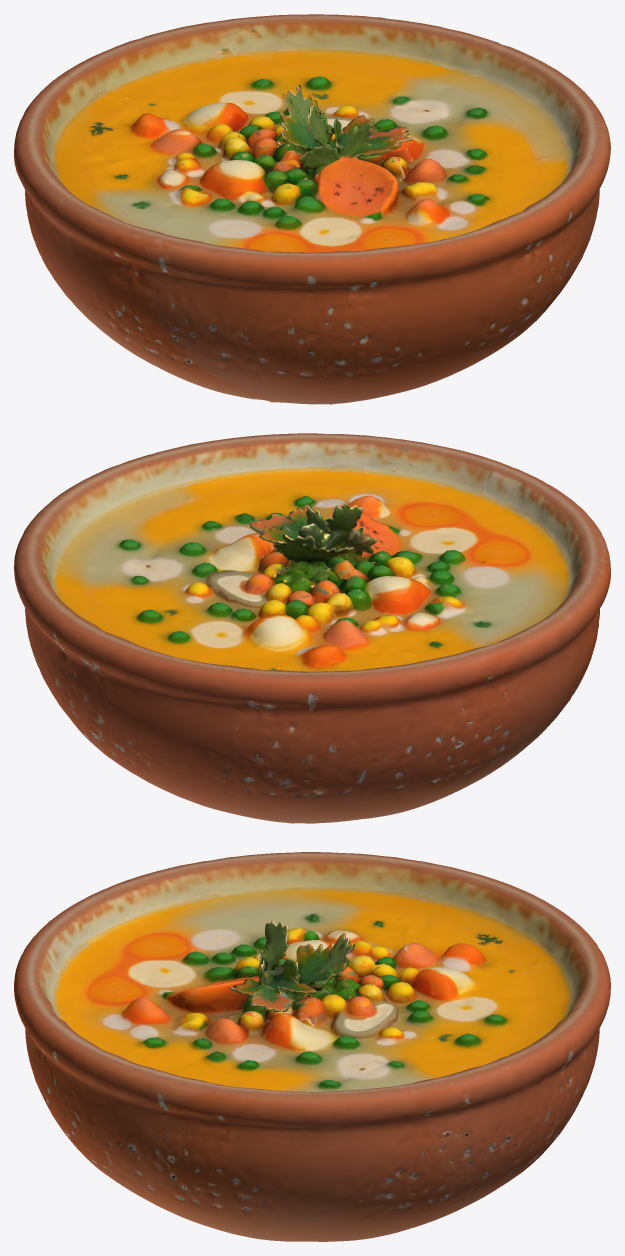
Rendered from soup.glb.
3 renders of one model, top to bottom at view 1: azimuth 30°, elevation 25°; view 2: azimuth 150°, elevation 25°; view 3: azimuth 270°, elevation 25°, orthographic.
Size of the model in its own units: 1.92 by 0.9499 by 1.92.
Materials: 1 (1 with a texture image).
